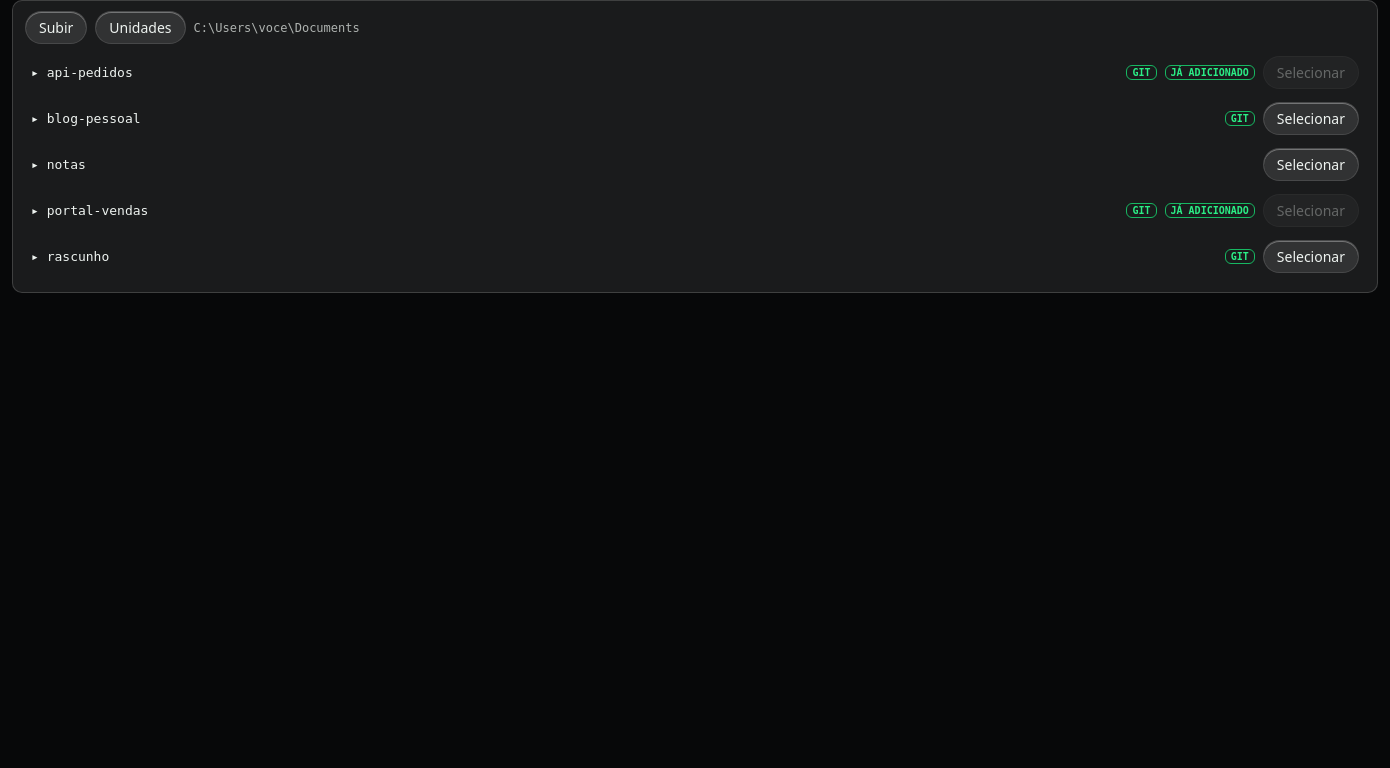
AddRepoForm › apagar o comando de teste volta a desabilitar o botão
This screenshot has width=1390, height=768.
Click the 2nd button "Selecionar": (1311, 118) [1263,102,1359,135]
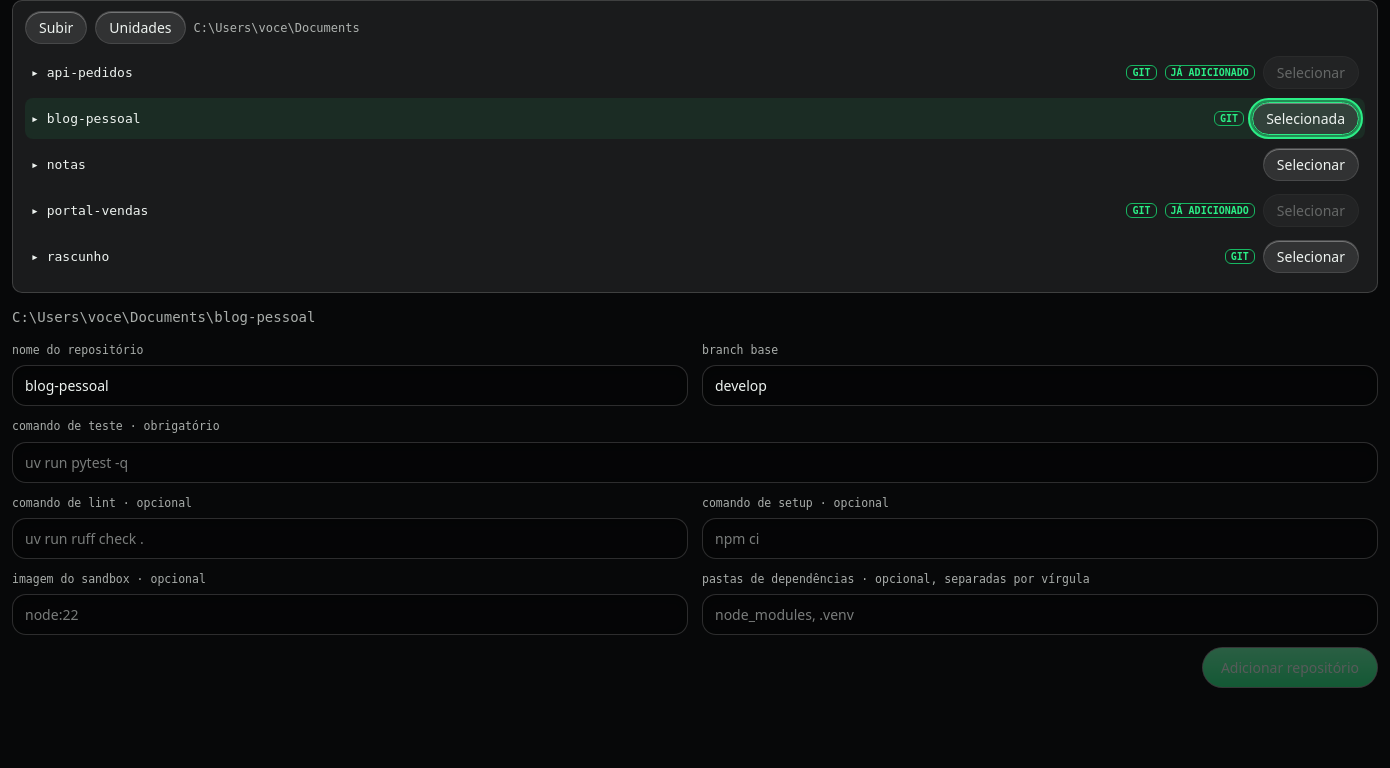
Now the field labelled "nome do repositório" holds "blog-pessoal", box [12,365,688,406]
In the field labelled "comando de teste · obrigatório": (695, 462) [12,442,1378,482], type "npm test"
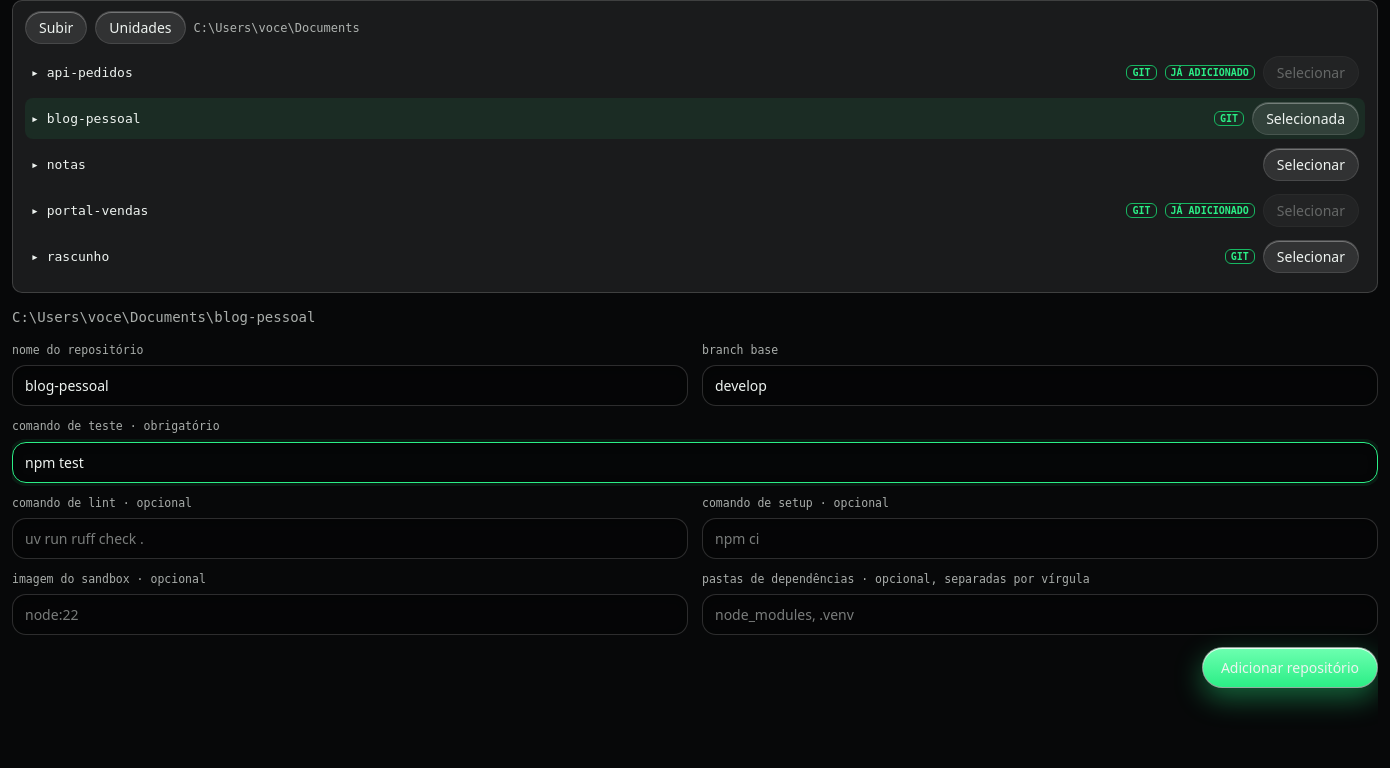
Now the button "Adicionar repositório" is enabled, box [1202,647,1378,688]
Clear the field labelled "comando de teste · obrigatório": (695, 462) [12,442,1378,482]
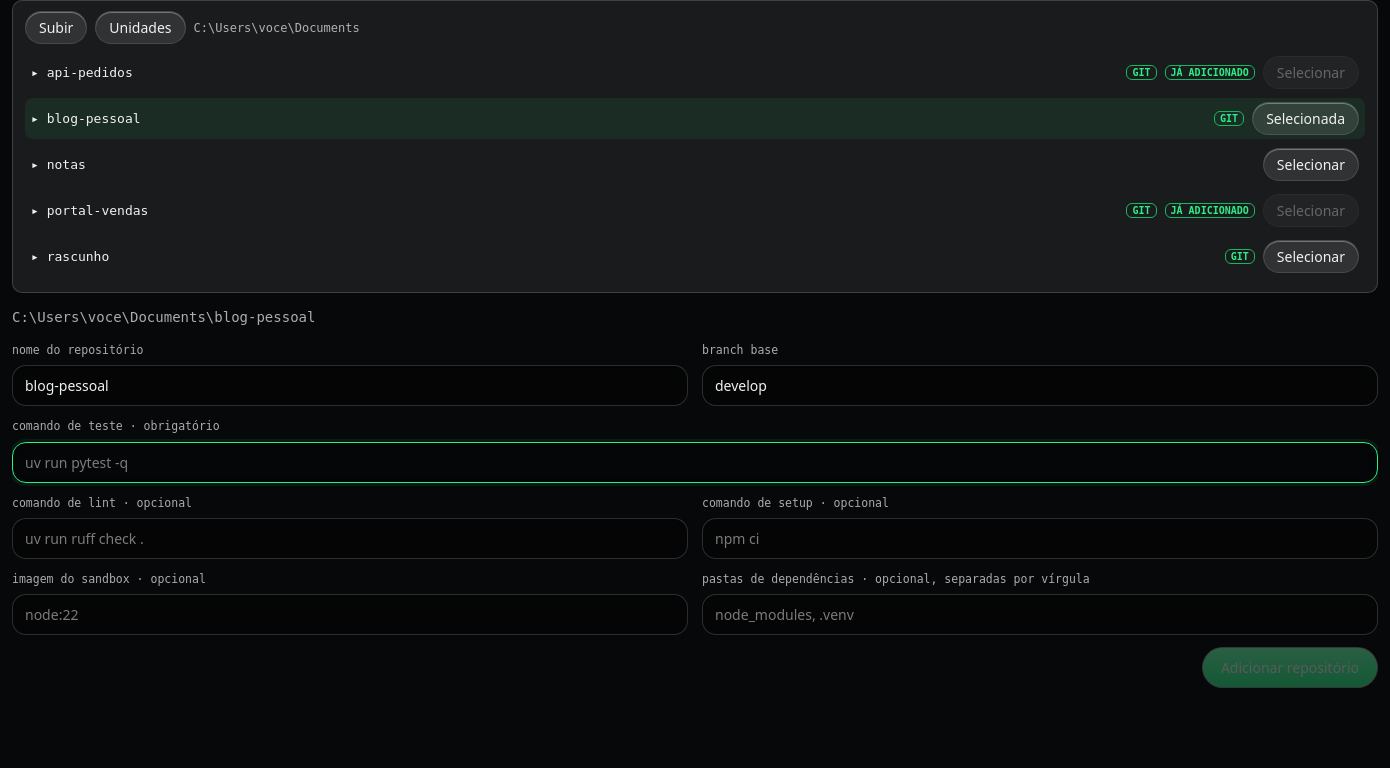
Now the button "Adicionar repositório" is disabled, box [1202,647,1378,688]
